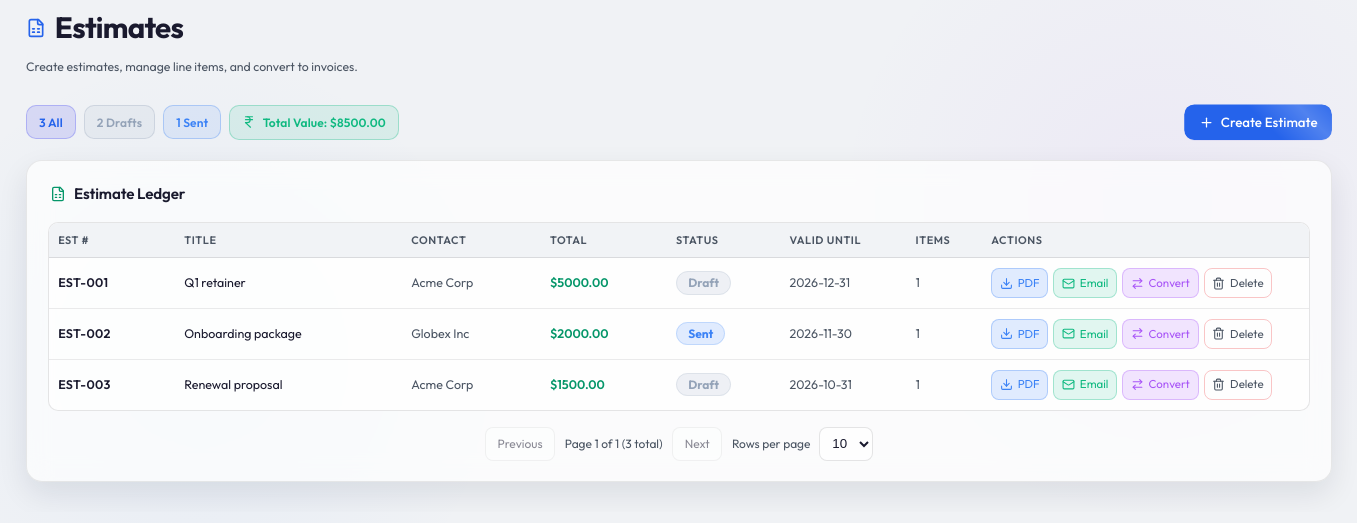
Test: <Estimates /> — page surface › re-clicking the active status pill resets the filter back to all
Expected: the text "EST-001" is shown, [48,258,175,309]
What coordinates should you click on to do the following:
click the button "2 Drafts"
I would click on:
 (120, 122)
Its box is [84,105,155,139].
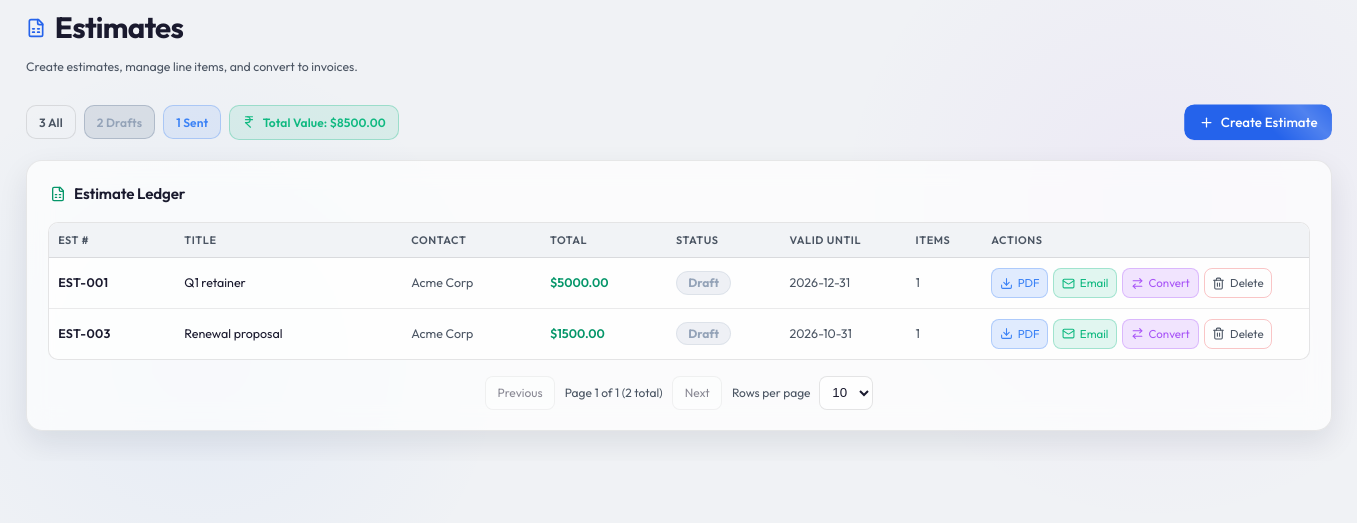
Now the text "EST-002" is gone
# Re-click "Drafts" — toggles back to 'all'.
What coordinates should you click on to do the following:
click the button "2 Drafts"
I would click on:
 (120, 122)
Its box is [84,105,155,139].
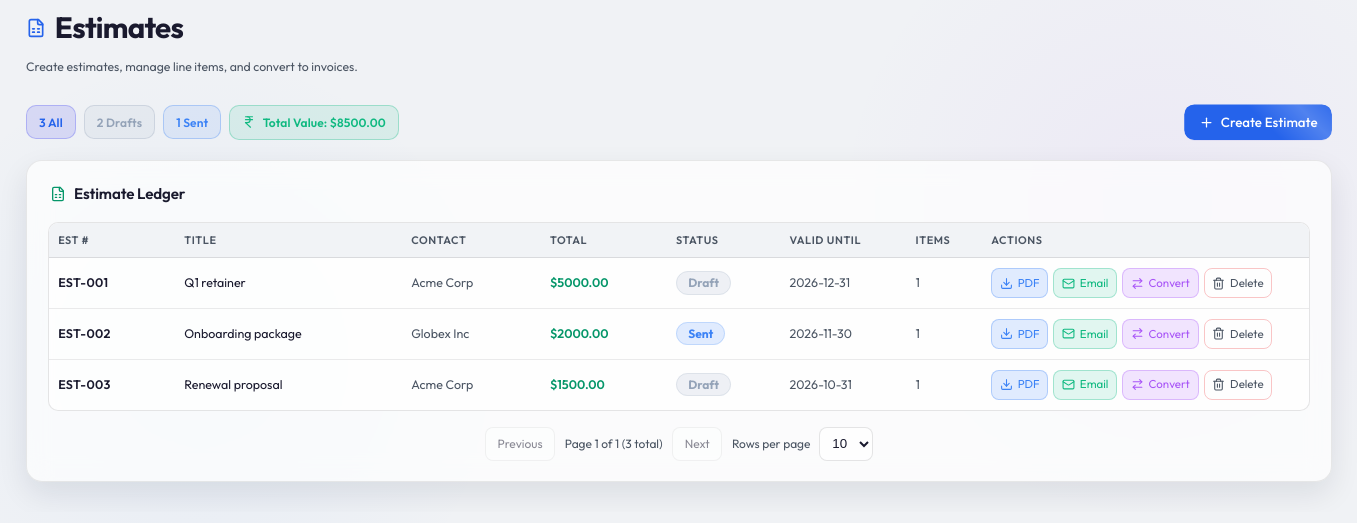
Expected: the text "EST-001" is shown, [48,258,175,309]
Now the text "EST-002" is shown, box [48,309,175,360]
